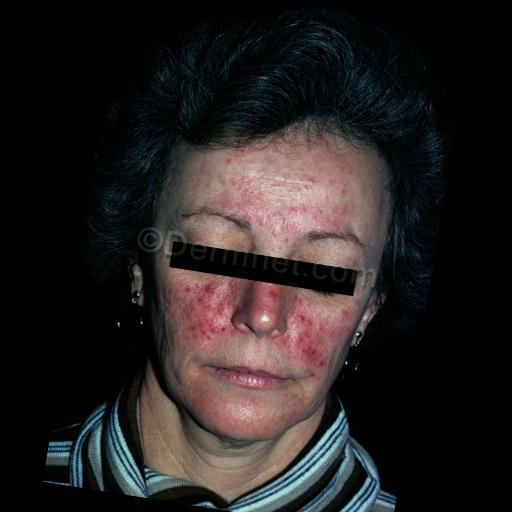Skin_Lesion: (289, 306, 322, 364), (186, 276, 226, 315), (182, 312, 217, 340), (231, 192, 266, 220), (295, 172, 322, 189), (284, 202, 306, 222), (222, 151, 238, 168), (336, 304, 349, 318)
